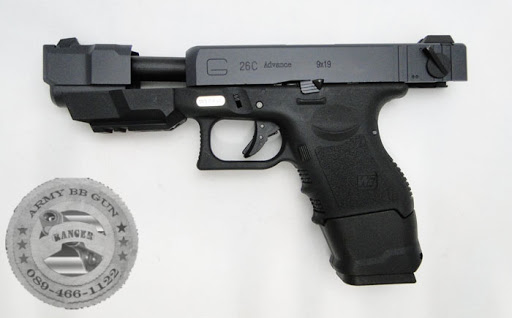gun: (40, 32, 471, 294)
